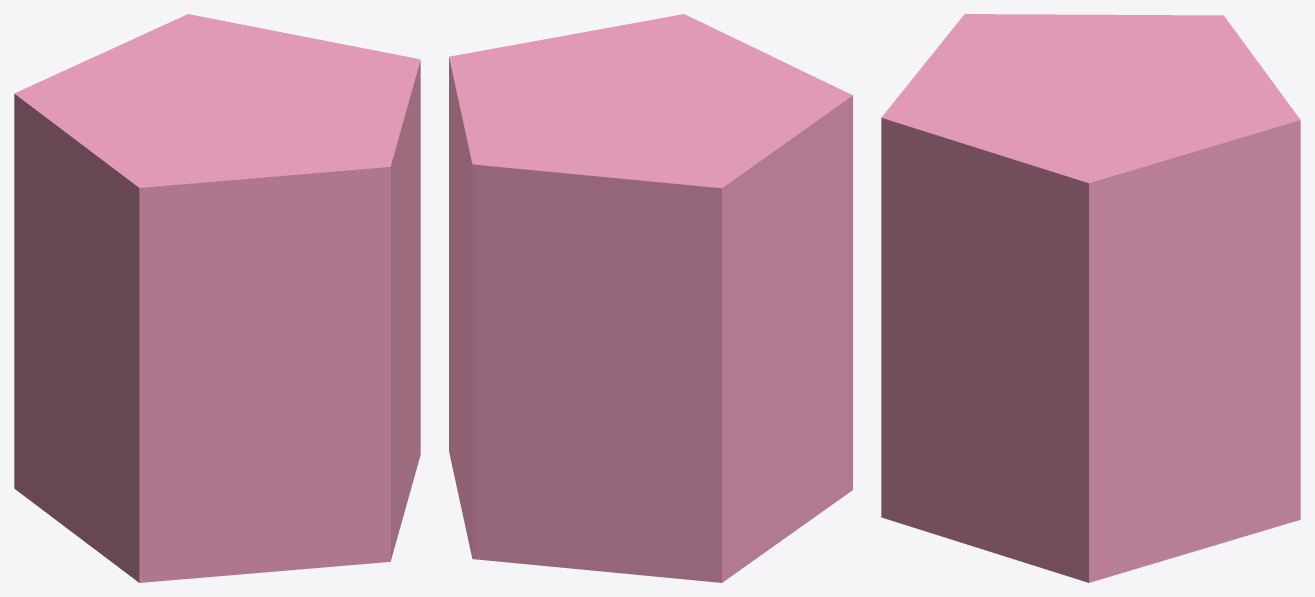
Rendered from Prisma Pentagonal.021.glb.
The picture shows the model from 3 angles, left to right: view 1: azimuth 30°, elevation 25°; view 2: azimuth 150°, elevation 25°; view 3: azimuth 270°, elevation 25°; orthographic projection.
Parts seen in each view (by area): view 1: Prisma Pentagonal.021; view 2: Prisma Pentagonal.021; view 3: Prisma Pentagonal.021.
Boxes of the visible parts, x1,y1,x2,y2 form: Prisma Pentagonal.021: [14, 14, 420, 582]; Prisma Pentagonal.021: [449, 14, 852, 582]; Prisma Pentagonal.021: [881, 14, 1300, 582].
Bounding box in the file's own units: 1.82 × 2 × 1.9.
